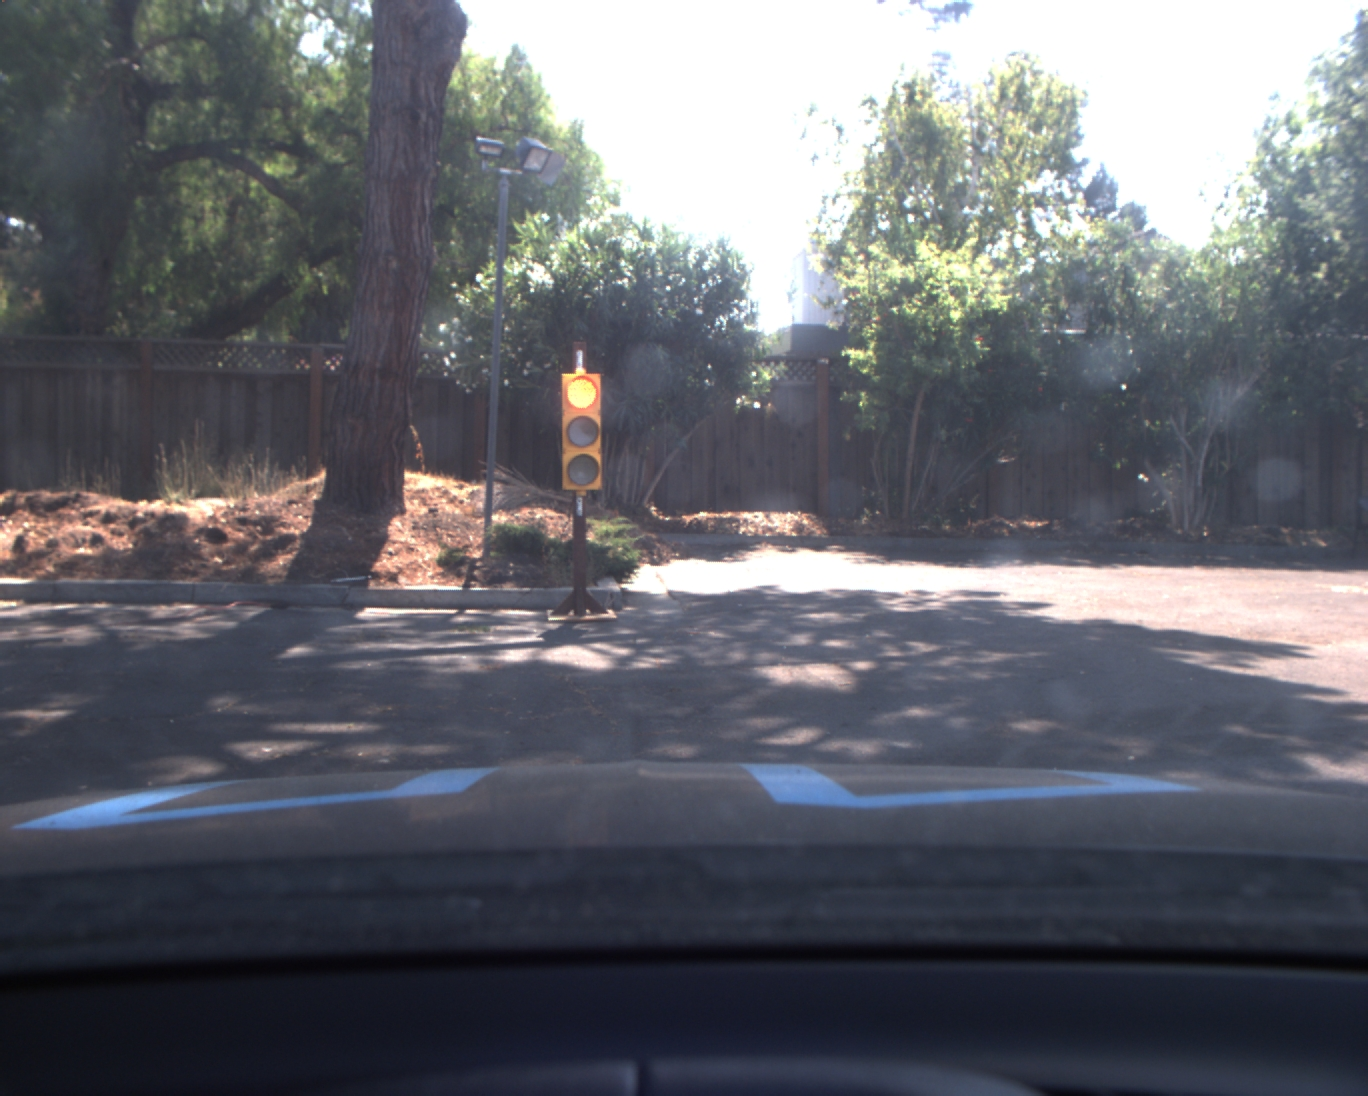red: (559, 369, 603, 493)
